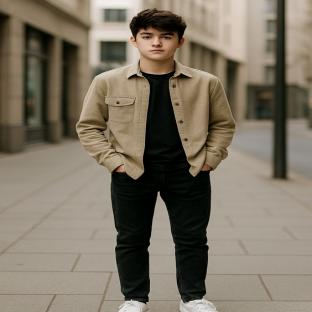Human: (77, 9, 235, 312)
